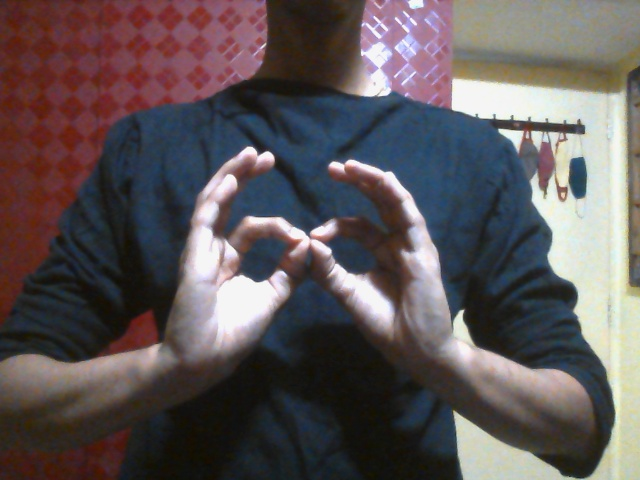B: (167, 147, 453, 393)
